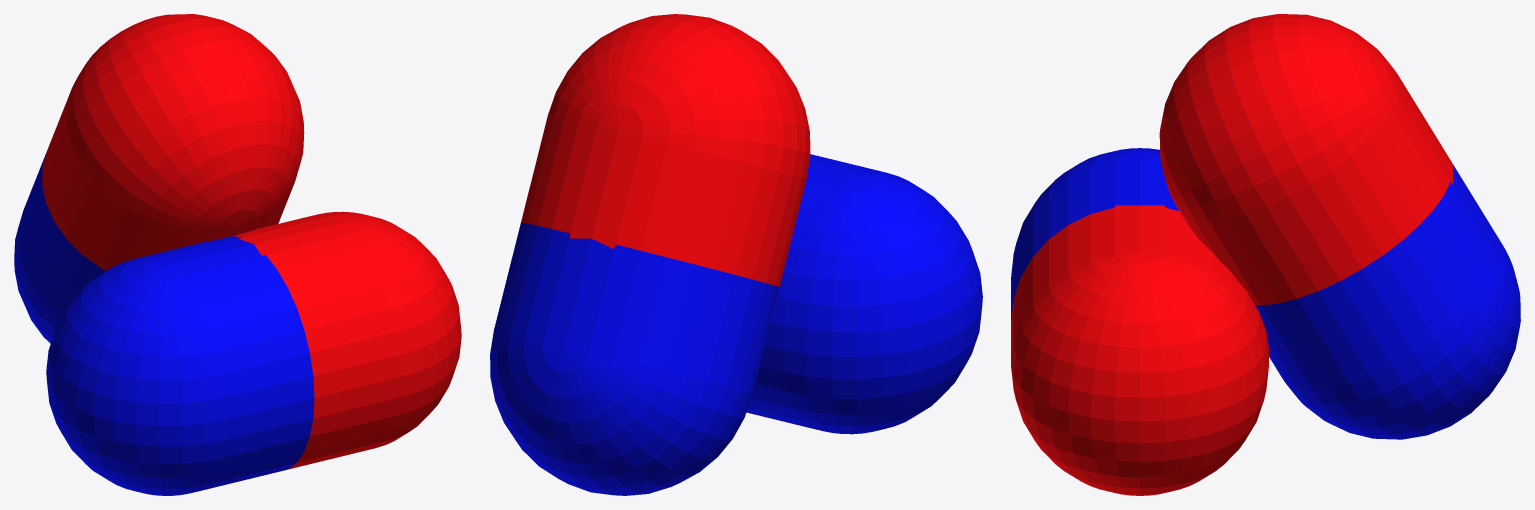
Rendered from Medicine.fbx.
3 renders of one model, left to right at view 1: azimuth 30°, elevation 25°; view 2: azimuth 150°, elevation 25°; view 3: azimuth 270°, elevation 25°, orthographic. The views are drawn at different scales.
Visible parts, largest first — view 1: Sphere.002, Sphere.001; view 2: Sphere.001, Sphere.002; view 3: Sphere.001, Sphere.002.
Part boxes in pixels (<box>): Sphere.002: <box>46,211,461,495</box>; Sphere.001: <box>14,14,304,343</box>; Sphere.001: <box>490,14,810,495</box>; Sphere.002: <box>746,154,982,434</box>; Sphere.001: <box>1159,14,1520,439</box>; Sphere.002: <box>1011,148,1268,495</box>.
Bounding box in the file's own units: 366 × 353 × 396.
